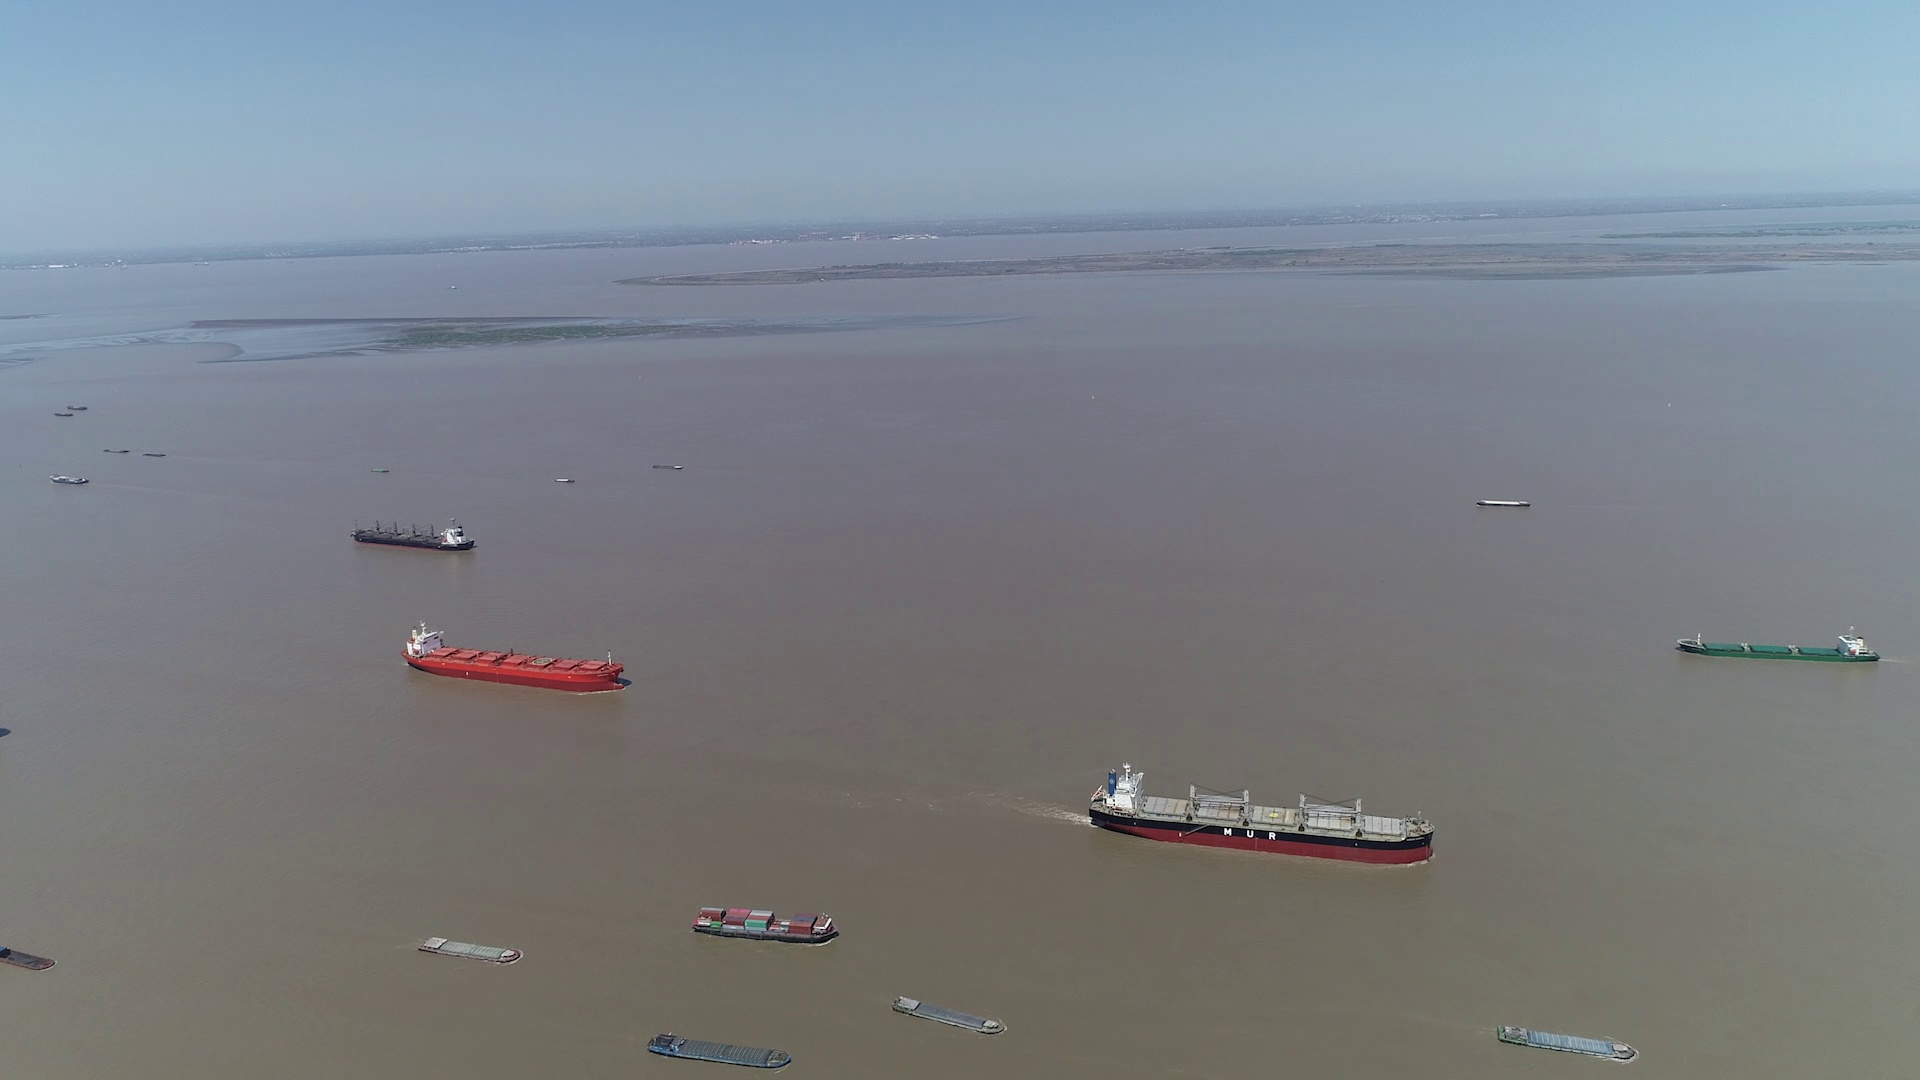ship: (1091, 767, 1433, 864), (402, 622, 622, 692), (1676, 626, 1882, 662), (649, 1033, 793, 1072), (691, 906, 839, 943), (1495, 1025, 1636, 1063), (893, 996, 1005, 1038), (351, 518, 477, 551), (419, 935, 520, 964), (0, 942, 54, 971), (1477, 498, 1531, 509), (49, 473, 90, 484)
